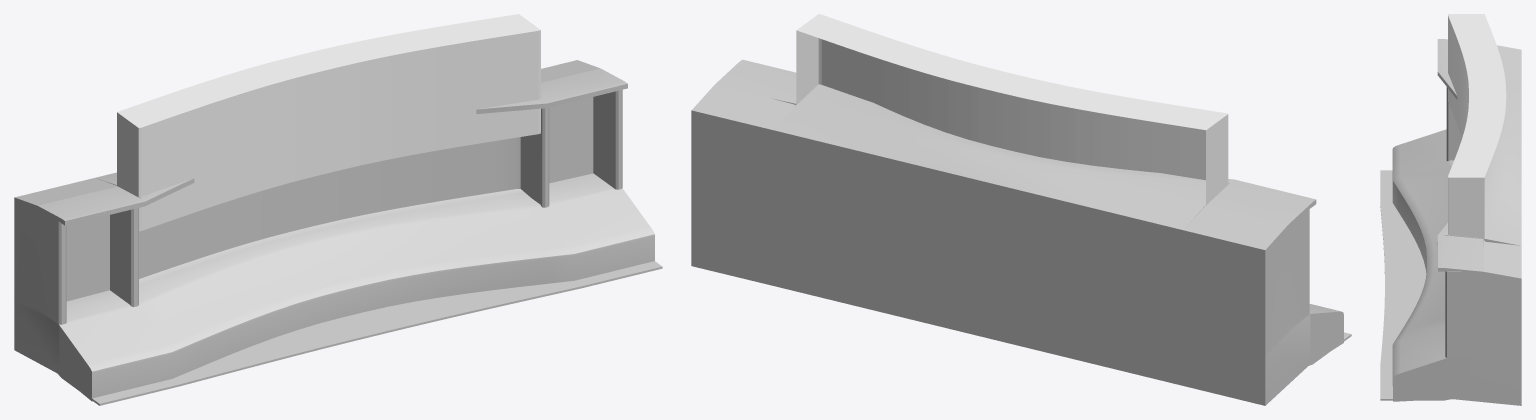
File: glassTest2.obj
3 renders of one model, left to right at view 1: azimuth 30°, elevation 25°; view 2: azimuth 150°, elevation 25°; view 3: azimuth 270°, elevation 25°, orthographic. The views are drawn at different scales.
Visible parts, largest first — view 1: Cube.210_Cube.226, Cube.199_Cube.214; view 2: Cube.210_Cube.226, Cube.199_Cube.214; view 3: Cube.210_Cube.226, Cube.199_Cube.214.
Boxes of the visible parts, x1,y1,x2,y2 form: Cube.210_Cube.226: (14,60,662,405); Cube.199_Cube.214: (117,14,540,231); Cube.210_Cube.226: (691,59,1351,405); Cube.199_Cube.214: (796,14,1228,205); Cube.210_Cube.226: (1380,39,1521,405); Cube.199_Cube.214: (1448,14,1506,238).
Size of the model in its own units: 45.97 by 18.31 by 12.01.
Materials: 2 (1 with a texture image).
